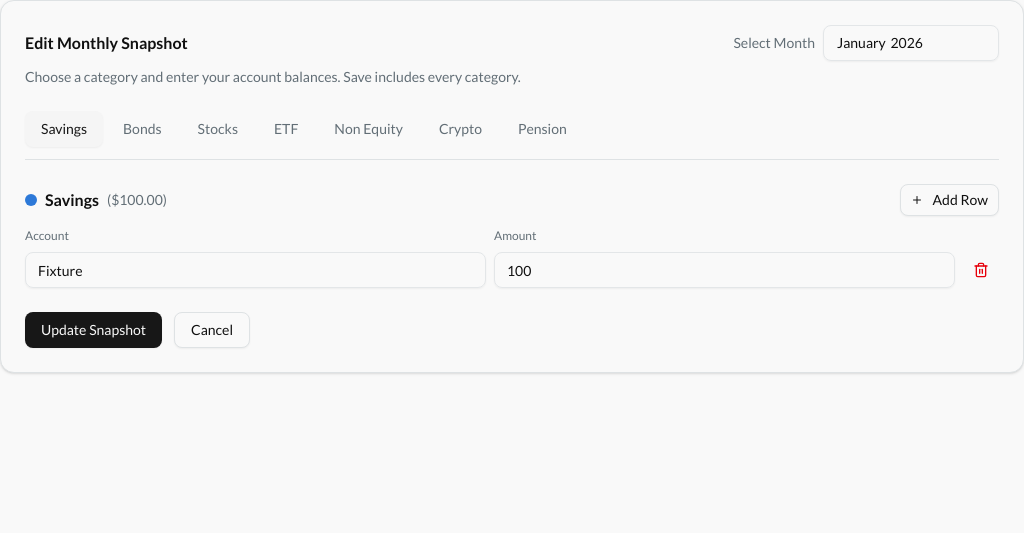
Test: checks both target and original after an uncertain rename and keeps missing edits blocked
Expected: the button "Update Snapshot" is shown, [25,312,162,348]
Replace the text in the number field with "123": coordinates (724, 270) [494,252,955,288]
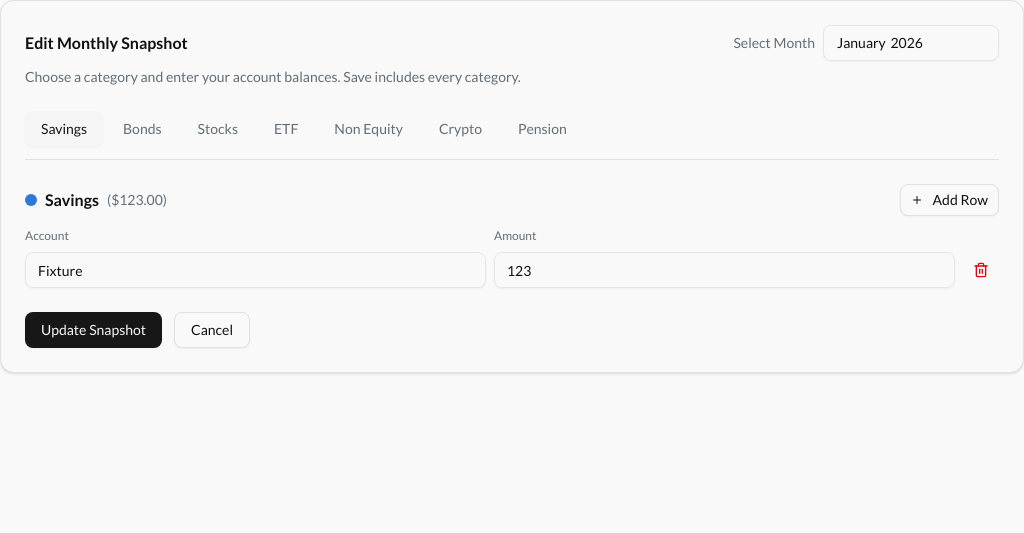
Replace the text in the field labelled "Select Month" with "2026-03": coordinates (911, 43) [823,25,999,61]
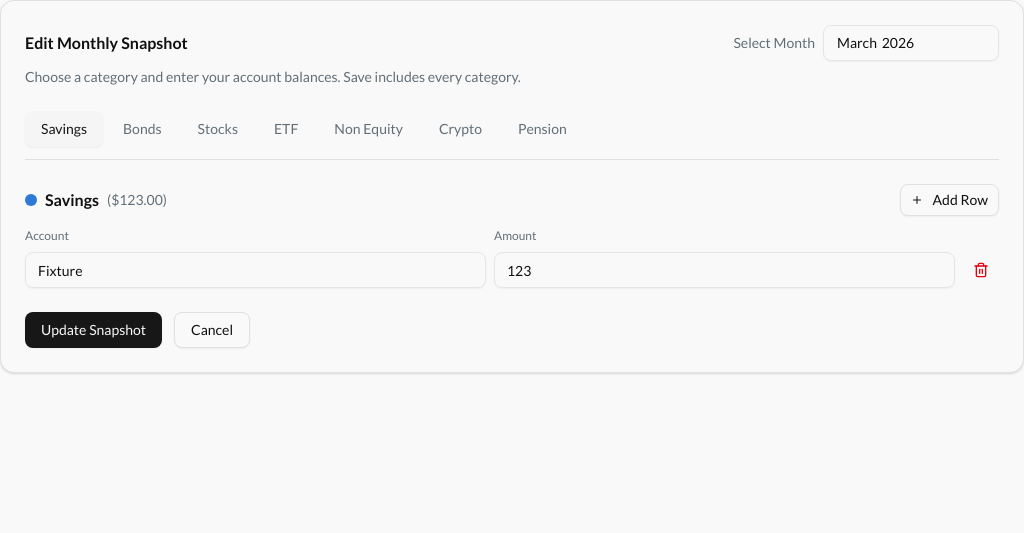
Click the button "Update Snapshot": coordinates (94, 330) [25,312,162,348]
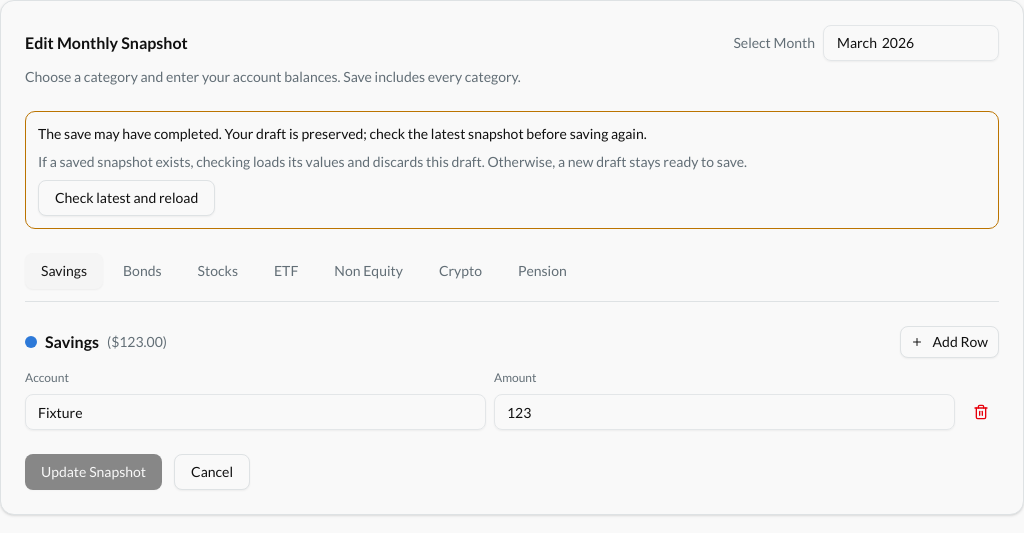
Expected: the message is shown, [25,111,999,229]
Click the button "Check latest and reload": coordinates (127, 198) [38,180,215,216]
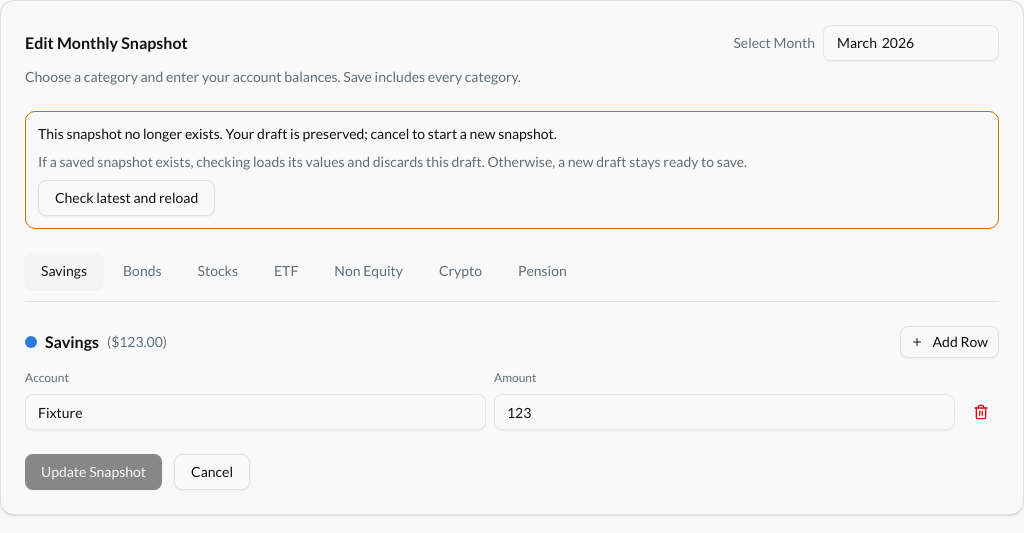
Expected: the button "Update Snapshot" is disabled, [25,454,162,490]
Expected: the text "This snapshot no longer exists. Your draft is preserved; cancel to start a new snapshot." is shown, [38,125,557,142]
